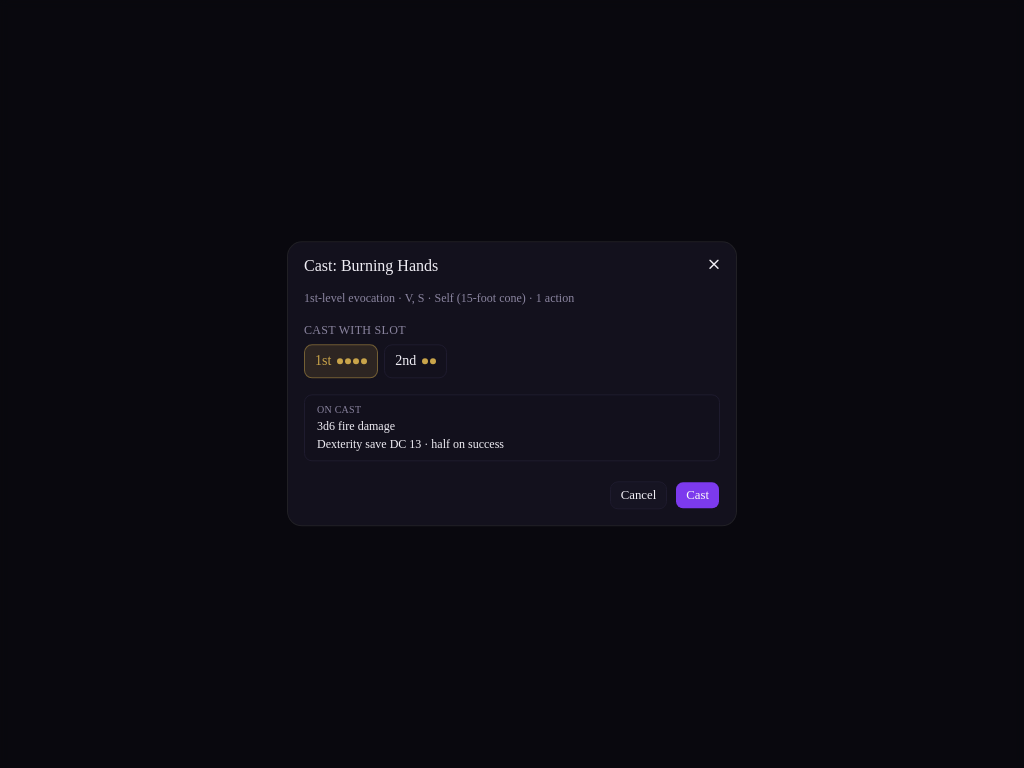
Test: CastDialog — result pane › offers exactly the returned roll requests
The width and height of the screenshot is (1024, 768).
Click the button "Cast". click: (698, 496)
box: [675,482,720,510]
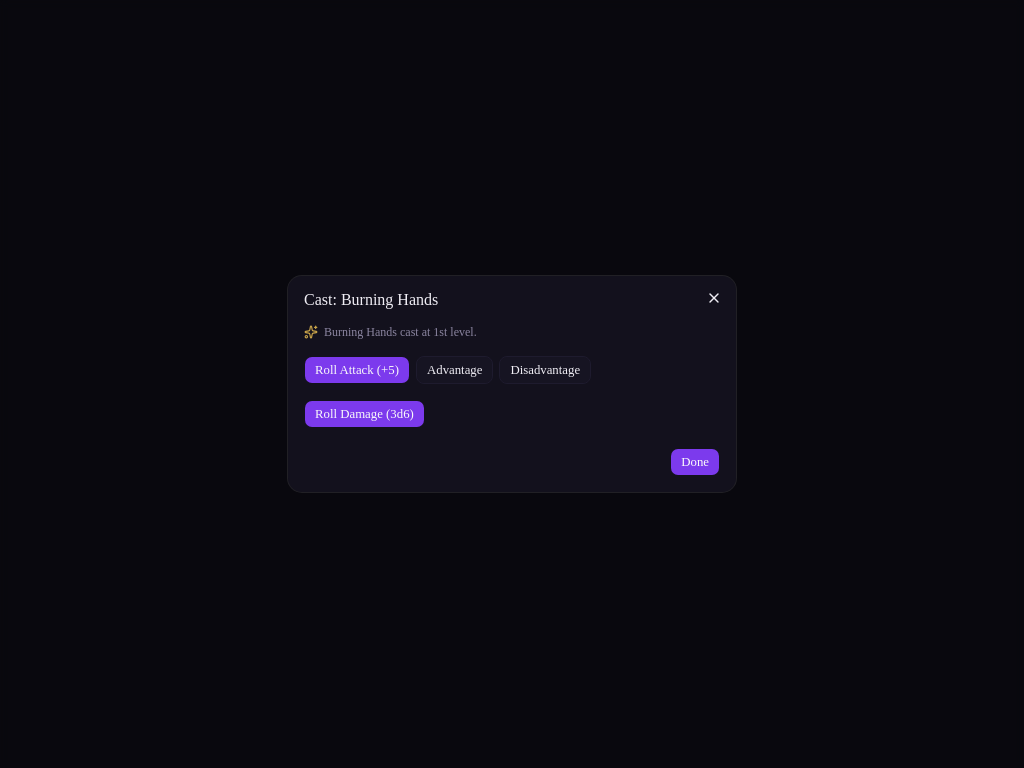
expect the button "Done" is shown: met, box [670,448,720,476]
expect the button "Roll Attack (+5)" is shown: met, box [304,356,410,384]
expect the button "Advantage" is shown: met, box [416,356,493,384]
